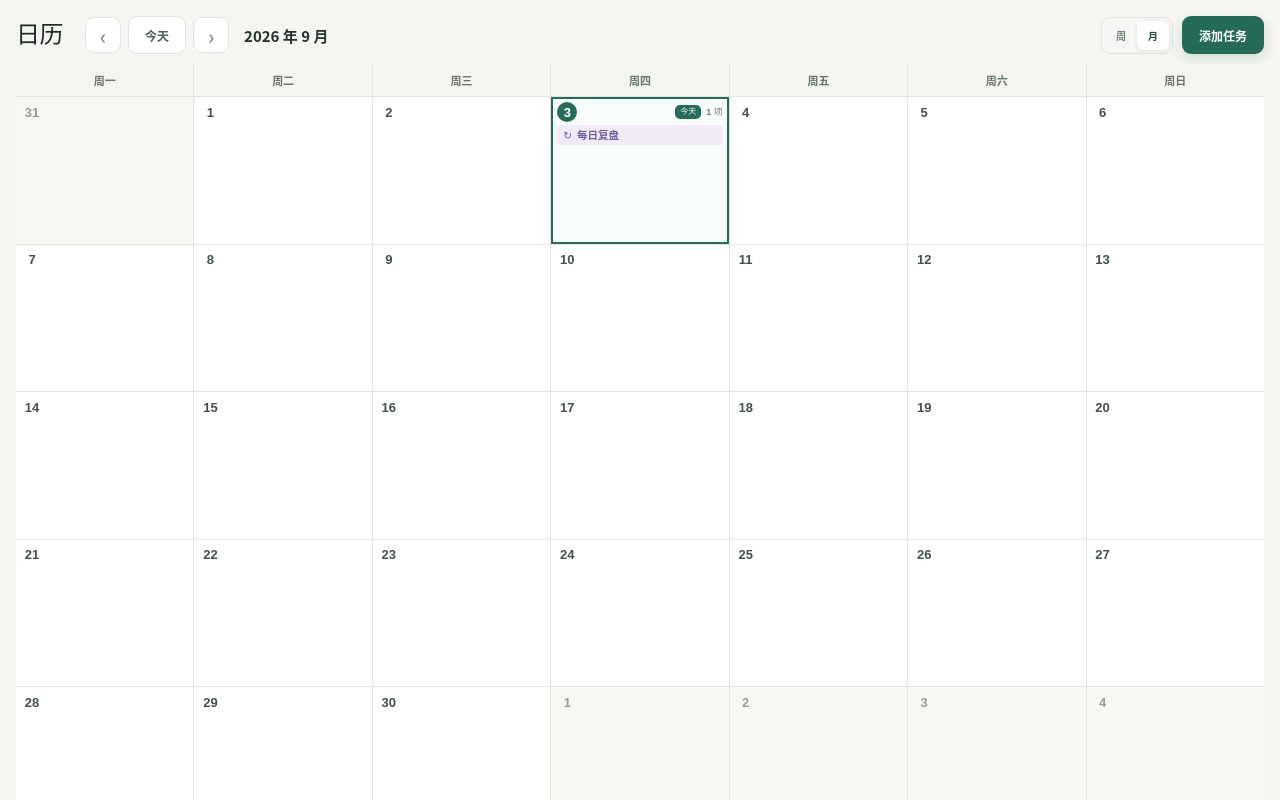
Test: CalendarPage › 点击重复发生项只打开操作抽屉，不会生成任务或写入数据
Click the button named "查看重复任务“每日复盘”" at (640, 135), box top-left (557, 125), bottom-right (723, 145)
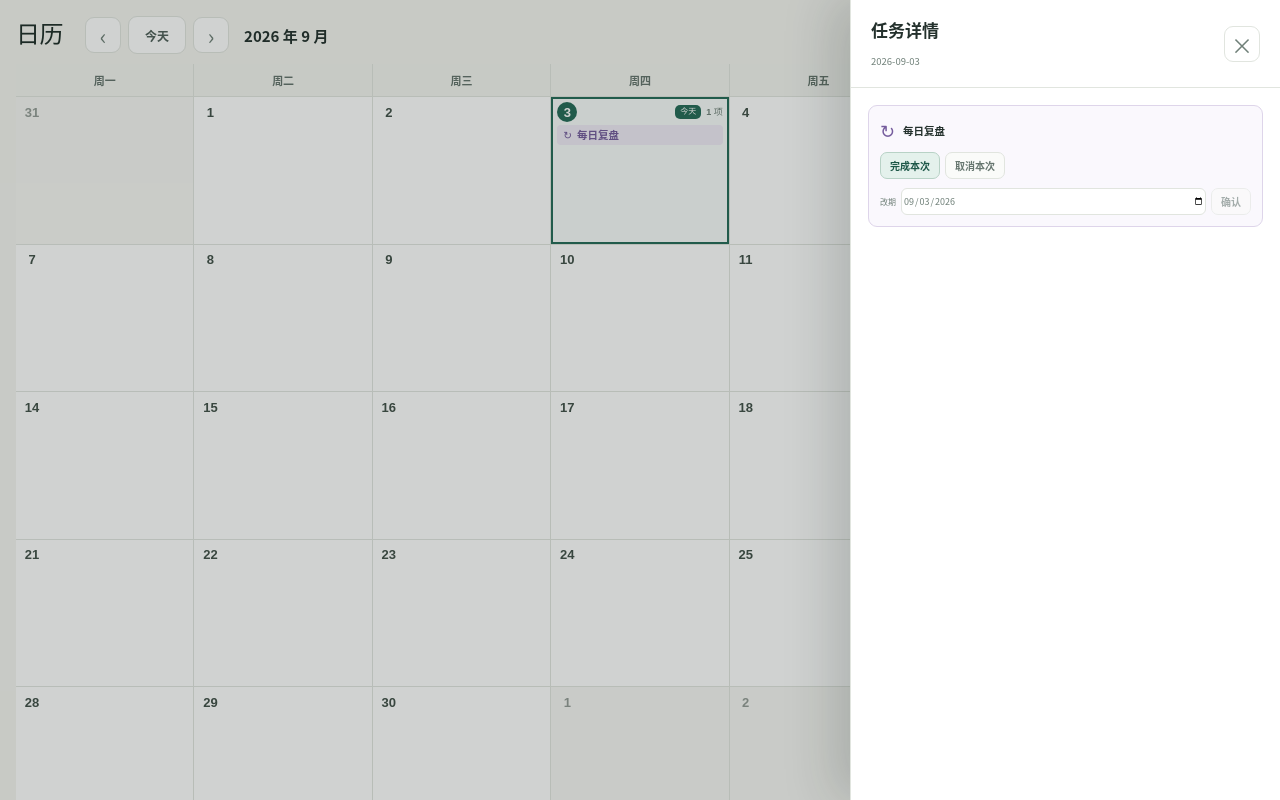
Expected: the dialog "任务详情" is shown, top-left (850, 0), bottom-right (1279, 799)
Expected: the button "完成本次" is shown, top-left (880, 152), bottom-right (940, 179)
Expected: the button "取消本次" is shown, top-left (945, 152), bottom-right (1005, 179)
